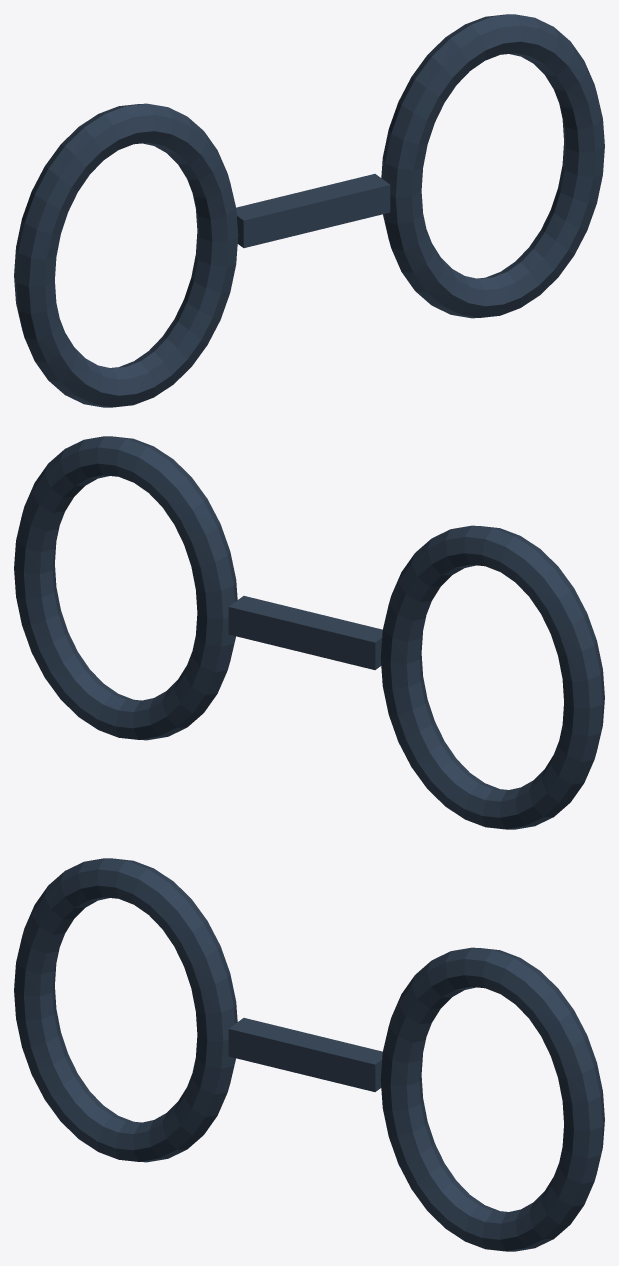
The model's file is glasses.glb.
3 views of the same model, one above another, from view 1: azimuth 30°, elevation 25°; view 2: azimuth 150°, elevation 25°; view 3: azimuth 330°, elevation 25° (orthographic).
Parts seen in each view (by area): view 1: glasses; view 2: glasses; view 3: glasses.
Part boxes in pixels (x1,y1,x2,y2): glasses: (14, 14, 604, 407); glasses: (14, 436, 604, 829); glasses: (14, 858, 604, 1251).
Bounding box in the file's own units: 0.8 × 0.39 × 0.05.
